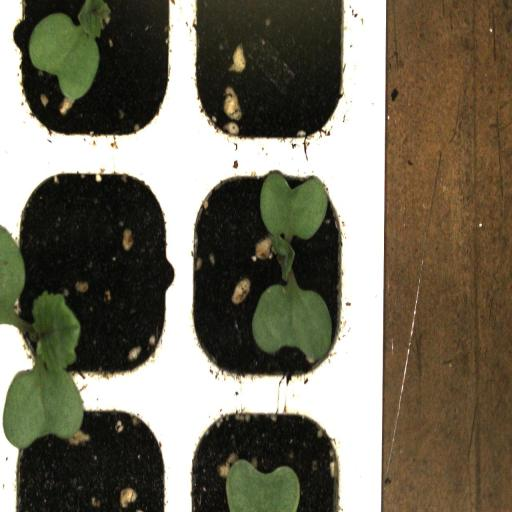Folha: (0, 226, 84, 450), (260, 172, 328, 275), (252, 277, 333, 361), (225, 459, 300, 512)
Germinacao: (8, 152, 185, 384), (184, 151, 352, 381), (0, 0, 188, 150)
